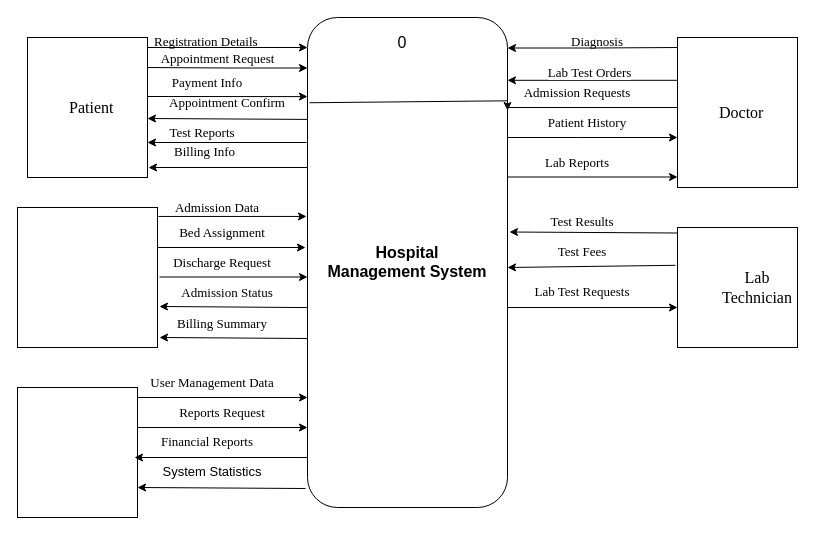
This 815x535 diagram has some shape labels left out. Each missing label, with the centre of its shape:
"Admin" belongs at point (77, 452).
"Receptionist" belongs at point (87, 277).
